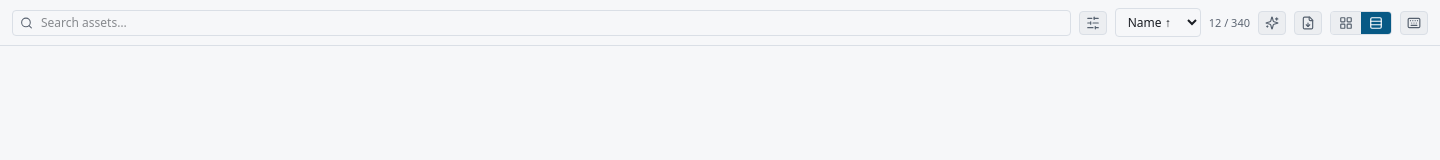
the toolbar renders the search, sort, and view controls and writes view state
The width and height of the screenshot is (1440, 160).
Check: the text "12 / 340" is shown, box x1=1209 y1=15 x2=1250 y2=30
Check: the dropdown named "Sort order" shows "Name ↑", box x1=1115 y1=8 x2=1201 y2=37
Type "brick" into the field labelled "Search assets" at (541, 22), box x1=12 y1=10 x2=1071 y2=36
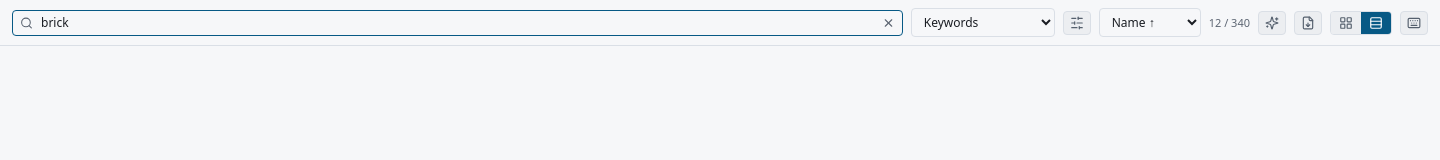
Check: the dropdown named "Search mode" is shown, box x1=911 y1=8 x2=1055 y2=37
Click the button named "Grid view" at (1346, 22), box x1=1331 y1=12 x2=1361 y2=34
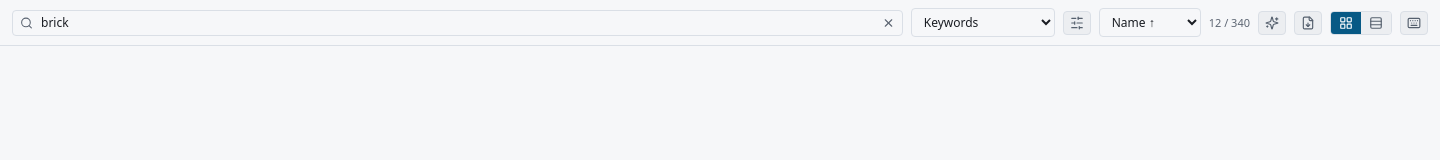
Check: the button named "Grid view" is pressed, box x1=1331 y1=12 x2=1361 y2=34
Click the button named "Clear search" at (888, 22), box x1=882 y1=16 x2=895 y2=29
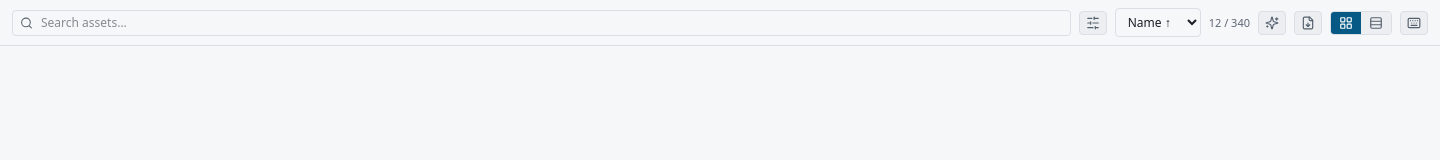
Check: the field labelled "Search assets" is empty, box x1=12 y1=10 x2=1071 y2=36
